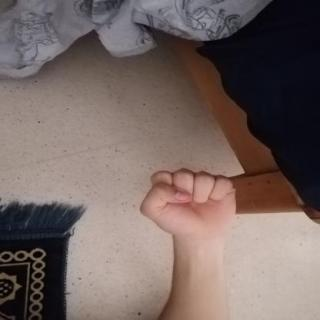SAD: (132, 162, 251, 246)
